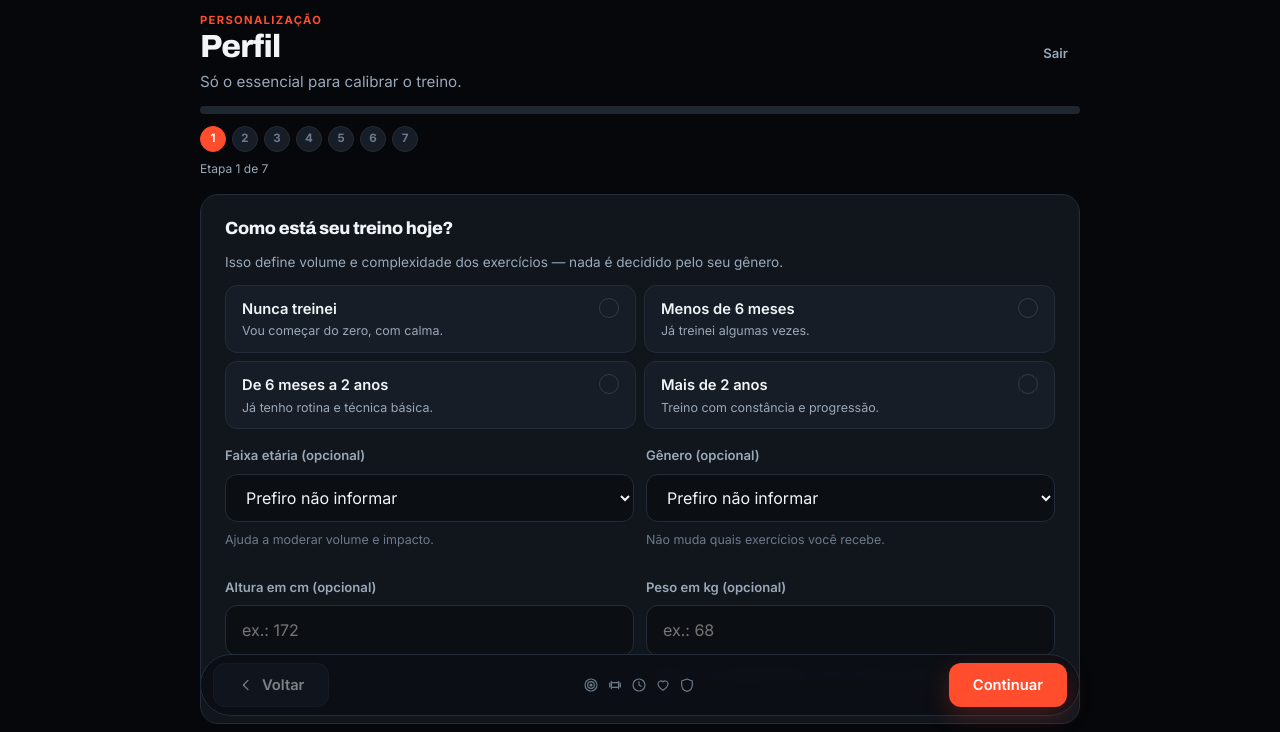
Test case: questionário de personalização › permite voltar e corrigir respostas
expect the heading "Como está seu treino hoje?" is shown: met, box [225,219,453,238]
Step 1. Click the button "Nunca treinei Vou começar do zero, com calma." → [289, 309], box [225,285,636,353]
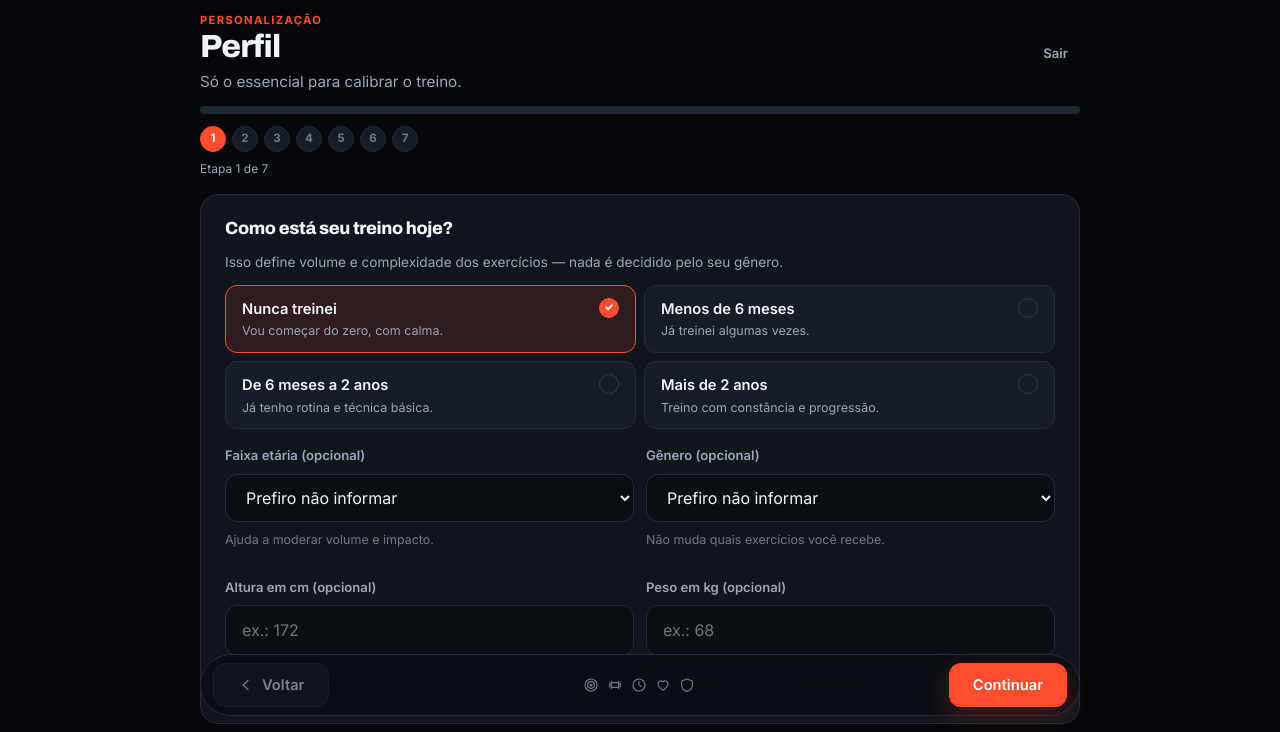
Step 2. Click the button "Continuar" → [1008, 685], box [949,663,1067,707]
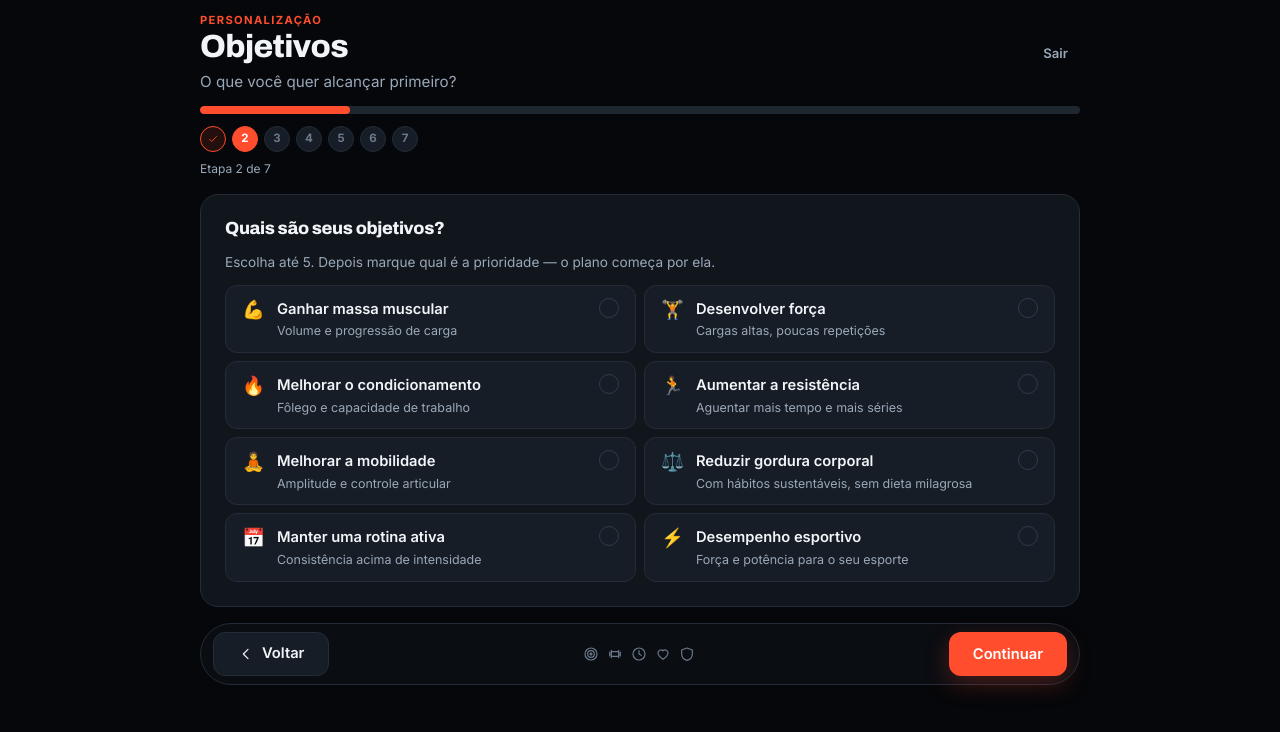
expect the heading "Quais são seus objetivos?" is shown: met, box [225,219,444,238]
Step 3. Click the button "Voltar" → [271, 654], box [213,632,330,676]
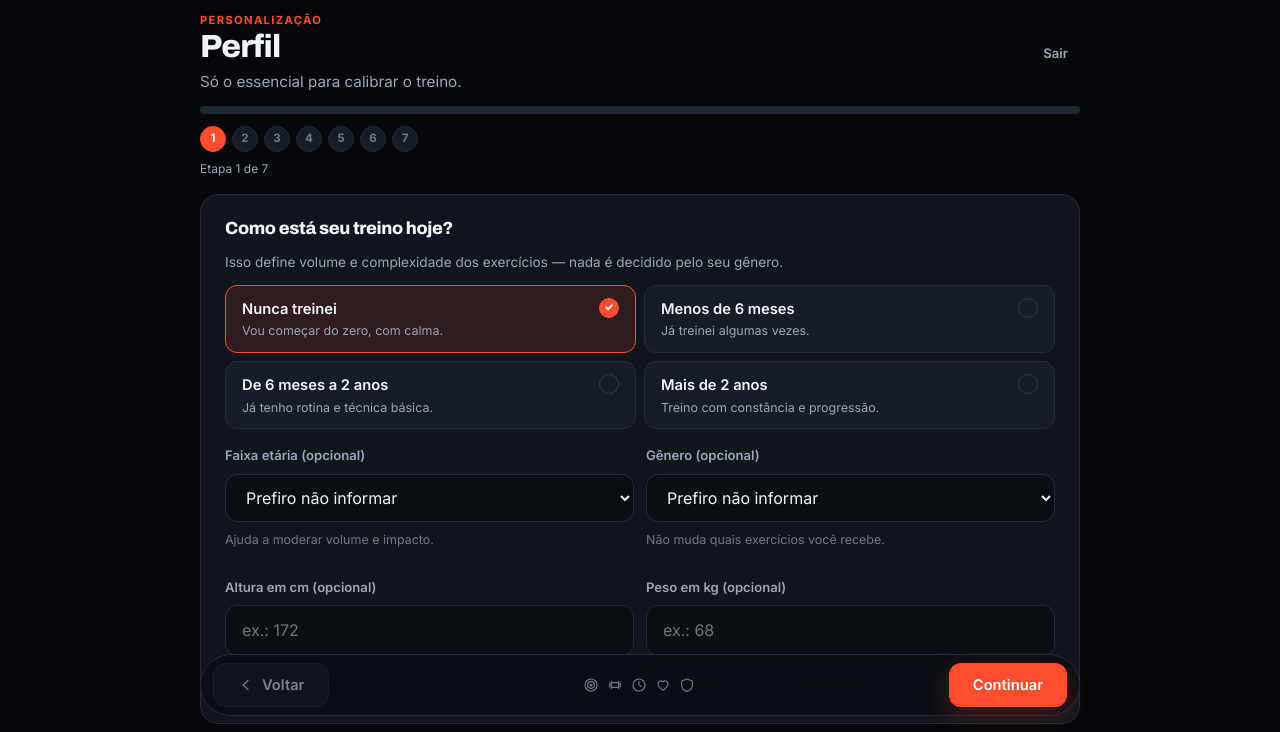
expect the heading "Como está seu treino hoje?" is shown: met, box [225,219,453,238]
